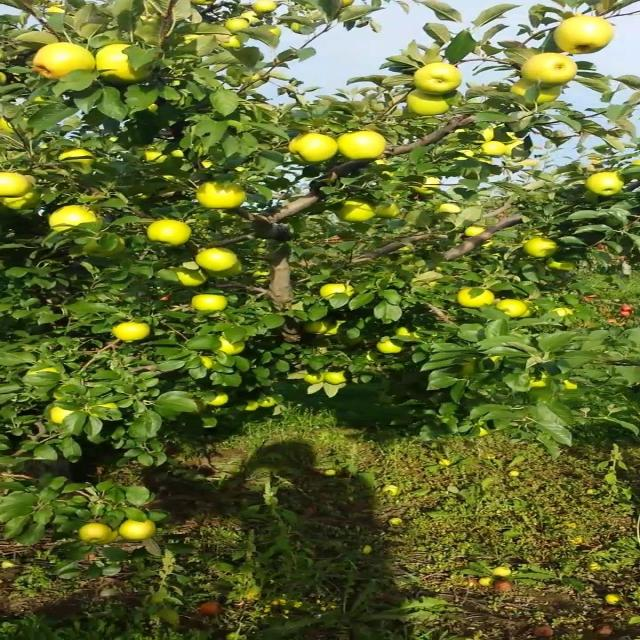apple: (99, 44, 155, 87), (554, 20, 619, 56), (518, 52, 580, 86), (35, 44, 92, 80), (404, 88, 459, 118), (49, 204, 105, 233), (198, 180, 249, 211), (291, 132, 340, 164), (340, 132, 391, 162), (412, 64, 464, 93), (511, 80, 564, 107), (198, 252, 247, 280), (148, 220, 194, 248), (333, 200, 377, 225), (198, 248, 240, 273), (84, 236, 128, 259), (589, 172, 631, 196), (56, 148, 98, 171), (113, 320, 153, 344), (454, 288, 498, 309), (134, 16, 164, 46), (525, 236, 562, 260), (77, 524, 117, 546), (120, 520, 156, 543), (6, 192, 44, 212), (412, 172, 443, 196), (6, 172, 34, 198), (305, 168, 341, 187), (191, 296, 228, 314), (248, 240, 283, 259), (177, 268, 210, 288), (497, 300, 530, 320), (49, 404, 80, 425), (376, 336, 407, 356), (13, 32, 60, 45), (319, 284, 357, 300), (220, 336, 249, 356), (376, 200, 404, 220), (212, 264, 247, 280), (84, 404, 121, 419), (141, 4, 169, 23), (461, 224, 491, 239), (525, 372, 553, 388), (504, 140, 530, 157), (255, 24, 284, 39), (291, 20, 318, 36), (28, 364, 64, 376), (397, 328, 425, 343), (141, 148, 167, 164), (220, 36, 247, 51), (547, 260, 578, 273), (255, 0, 279, 16), (205, 392, 229, 408), (305, 320, 329, 336), (198, 156, 222, 172), (476, 128, 501, 143), (198, 356, 222, 371), (84, 112, 108, 127), (461, 360, 480, 378), (483, 144, 507, 158), (241, 12, 265, 26), (326, 320, 347, 336), (326, 372, 350, 385), (198, 604, 222, 616), (440, 204, 462, 217), (518, 300, 533, 318), (255, 272, 274, 286), (227, 20, 249, 32), (561, 380, 581, 392), (241, 400, 261, 412), (191, 400, 208, 414), (305, 372, 324, 384), (49, 4, 68, 15), (262, 396, 279, 408), (170, 148, 187, 160), (6, 118, 18, 135), (554, 308, 574, 317), (248, 400, 261, 412), (383, 488, 402, 496), (476, 428, 491, 437), (248, 592, 263, 601), (35, 96, 50, 105), (490, 356, 505, 365), (497, 568, 512, 576), (440, 460, 455, 467), (390, 520, 405, 527), (589, 488, 599, 496), (362, 548, 373, 555), (511, 472, 519, 476), (568, 524, 576, 528), (200, 4, 204, 7)
